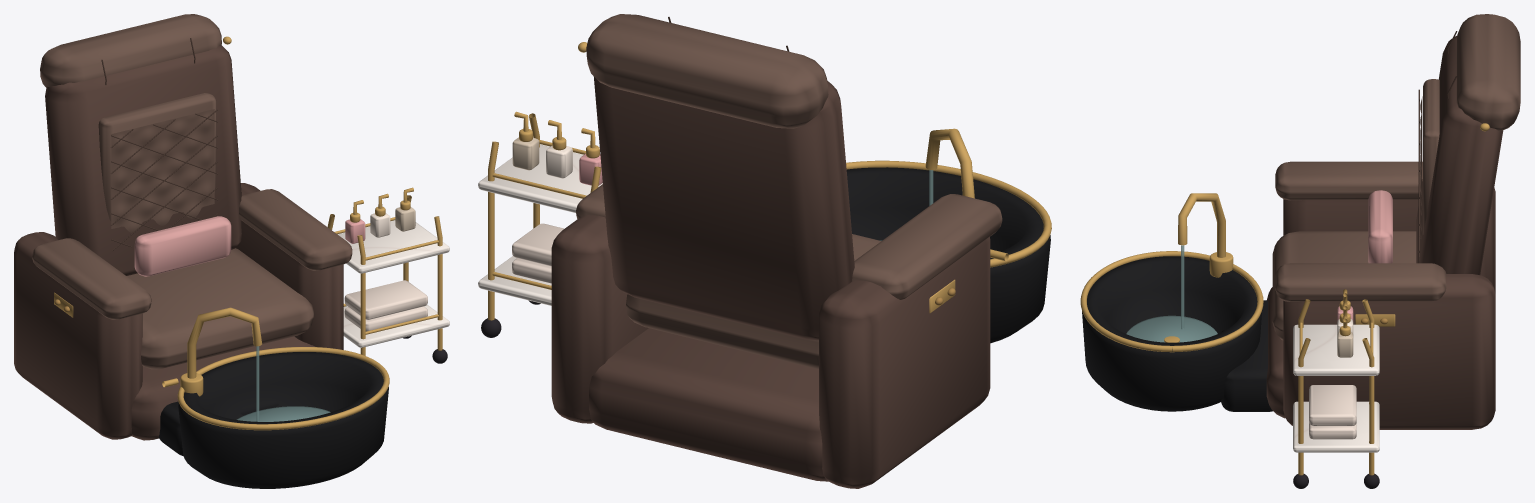
The model's file is pedicure_station_v3_game.glb.
3 views of the same model, side by side, from view 1: azimuth 30°, elevation 25°; view 2: azimuth 150°, elevation 25°; view 3: azimuth 270°, elevation 25° (orthographic). The views are drawn at different scales.
Visible parts, largest first — view 1: Batch_DarkBrownLeather_V3, Batch_DarkBrownLeatherInset_V3, Batch_BlackGlossyCeramic_V3, Batch_ChampagneGoldMetal_V3, Batch_WarmWhiteMarble_V3, Batch_DustyRoseFabric_V3, Batch_IvoryUpholstery_V3, Batch_TaupeStitch_V3, Batch_ClearWater_V3; view 2: Batch_DarkBrownLeather_V3, Batch_DarkBrownLeatherInset_V3, Batch_BlackGlossyCeramic_V3, Batch_ChampagneGoldMetal_V3, Batch_WarmWhiteMarble_V3, Batch_IvoryUpholstery_V3, Batch_pump_lotion_3_tint, Batch_pump_lotion_2_tint; view 3: Batch_DarkBrownLeather_V3, Batch_DarkBrownLeatherInset_V3, Batch_BlackGlossyCeramic_V3, Batch_ChampagneGoldMetal_V3, Batch_WarmWhiteMarble_V3, Batch_IvoryUpholstery_V3, Batch_ClearWater_V3, Batch_DustyRoseFabric_V3.
Part boxes in pixels (x1,y1,x2,y2): Batch_DarkBrownLeather_V3: [14, 45, 343, 440]; Batch_DarkBrownLeatherInset_V3: [32, 14, 352, 369]; Batch_BlackGlossyCeramic_V3: [159, 352, 388, 488]; Batch_ChampagneGoldMetal_V3: [54, 36, 442, 430]; Batch_WarmWhiteMarble_V3: [338, 220, 449, 347]; Batch_DustyRoseFabric_V3: [134, 216, 231, 276]; Batch_IvoryUpholstery_V3: [344, 280, 427, 331]; Batch_TaupeStitch_V3: [101, 38, 217, 251]; Batch_ClearWater_V3: [236, 346, 330, 421]; Batch_DarkBrownLeather_V3: [551, 76, 990, 488]; Batch_DarkBrownLeatherInset_V3: [576, 14, 1002, 369]; Batch_BlackGlossyCeramic_V3: [846, 167, 1050, 343]; Batch_ChampagneGoldMetal_V3: [488, 42, 1051, 320]; Batch_WarmWhiteMarble_V3: [478, 144, 602, 305]; Batch_IvoryUpholstery_V3: [512, 223, 564, 283]; Batch_pump_lotion_3_tint: [512, 137, 539, 170]; Batch_pump_lotion_2_tint: [546, 145, 572, 178]; Batch_DarkBrownLeather_V3: [1266, 36, 1503, 429]; Batch_DarkBrownLeatherInset_V3: [1272, 14, 1520, 340]; Batch_BlackGlossyCeramic_V3: [1082, 256, 1272, 411]; Batch_ChampagneGoldMetal_V3: [1080, 123, 1489, 475]; Batch_WarmWhiteMarble_V3: [1293, 324, 1379, 452]; Batch_IvoryUpholstery_V3: [1309, 385, 1356, 439]; Batch_ClearWater_V3: [1126, 245, 1217, 342]; Batch_DustyRoseFabric_V3: [1368, 190, 1392, 263].
Size of the model in its own units: 2.38 by 2.06 by 2.49.
14 materials, 1 textured.
